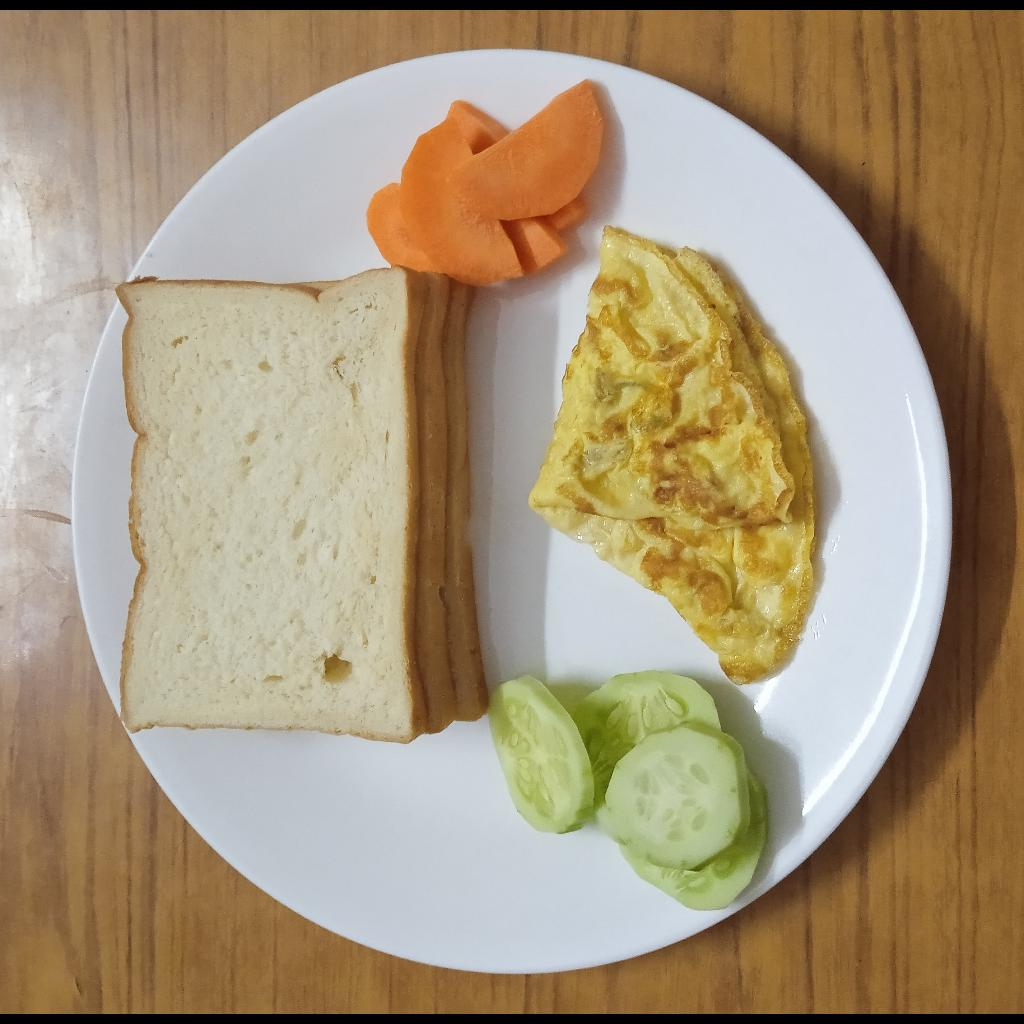bread: (114, 265, 491, 745)
carrot: (367, 79, 604, 288)
cucumber: (487, 671, 767, 912)
egg-poached: (527, 226, 814, 685)
